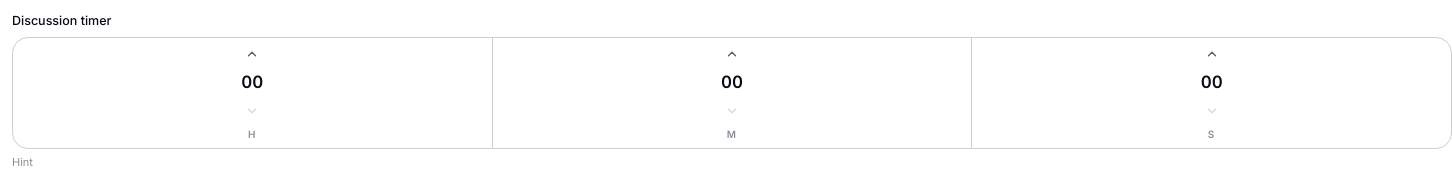
Test: TimerDurationFields › steps seconds in 15s increments
This screenshot has width=1452, height=183.
Click the button named "Increase Discussion timer seconds": click(1212, 54) [976,40,1447,68]
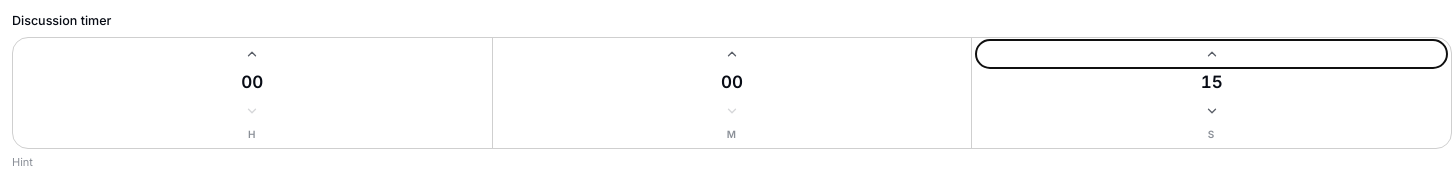
Check: the number field named "Discussion timer seconds" holds "15", box [976,68,1447,97]
Click the button named "Increase Discussion timer seconds": click(1212, 54) [976,40,1447,68]
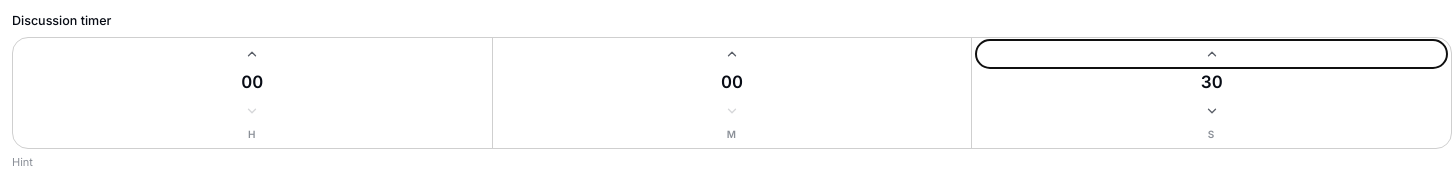
Check: the number field named "Discussion timer seconds" holds "30", box [976,68,1447,97]
